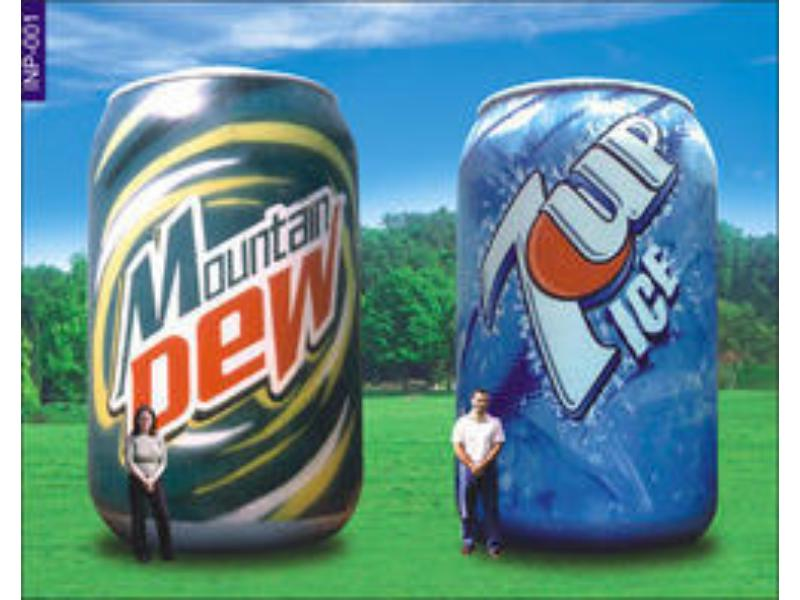can: (90, 71, 361, 545), (456, 81, 719, 553)
